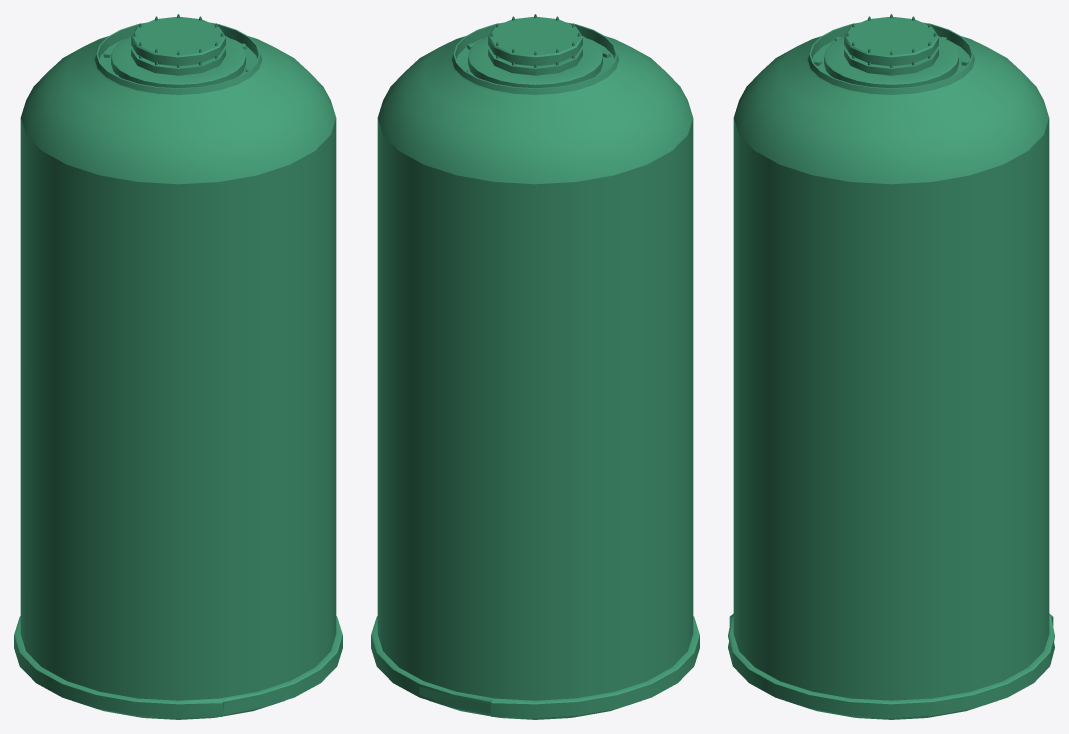
Rendered from heater.fbx.
3 renders of one model, left to right at view 1: azimuth 30°, elevation 25°; view 2: azimuth 150°, elevation 25°; view 3: azimuth 270°, elevation 25°, orthographic.
Visible parts, largest first — view 1: HV1HeatingVessel; view 2: HV1HeatingVessel; view 3: HV1HeatingVessel.
Boxes of the visible parts, bbox=[...] form: HV1HeatingVessel: bbox=[14, 14, 342, 719]; HV1HeatingVessel: bbox=[371, 14, 699, 719]; HV1HeatingVessel: bbox=[728, 14, 1054, 719].
Bounding box in the file's own units: 46.06 × 98.52 × 45.77.
